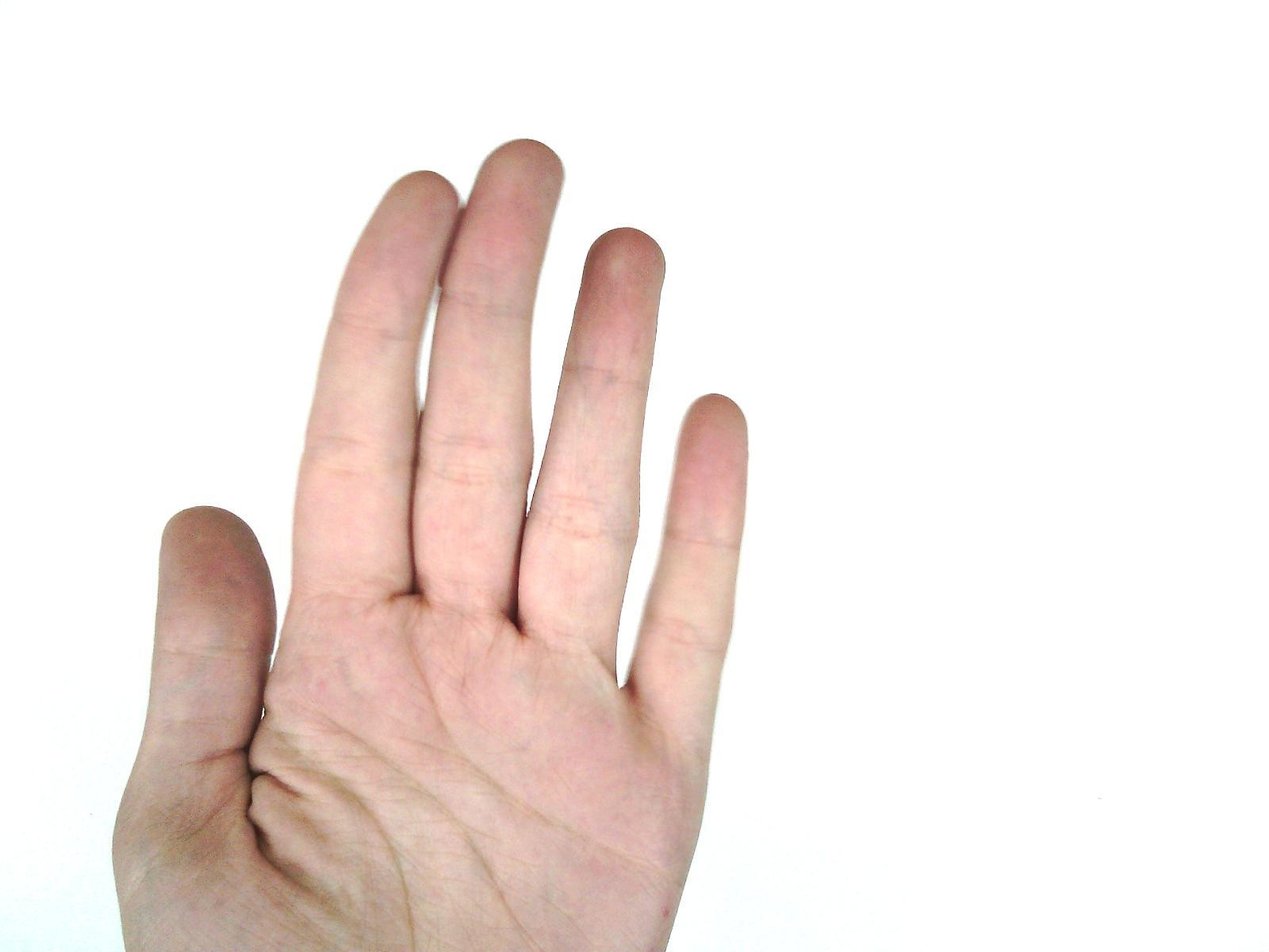open_palm: (109, 137, 753, 952)
